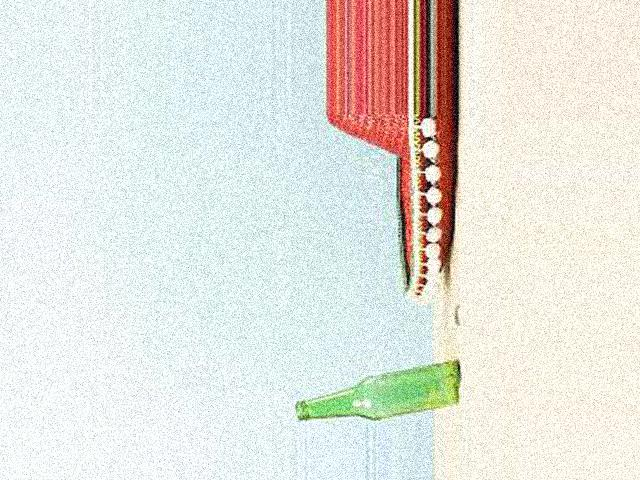beer: (294, 359, 464, 419)
